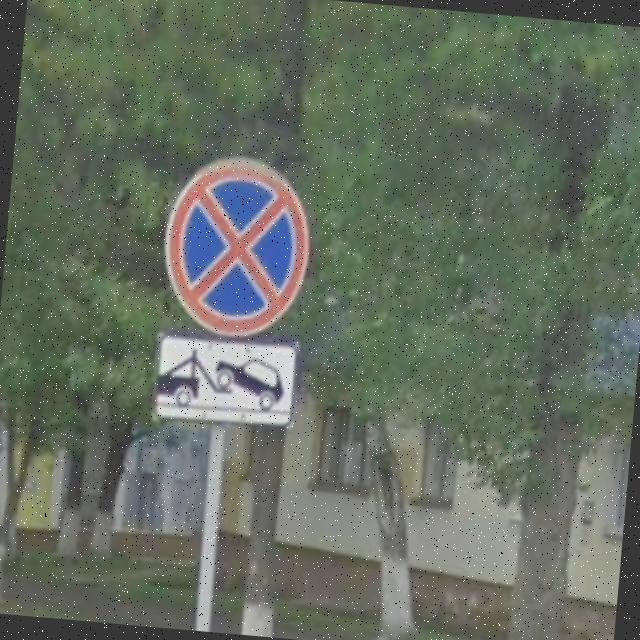Zakaz zatrzymywania sie: (156, 148, 318, 346)
